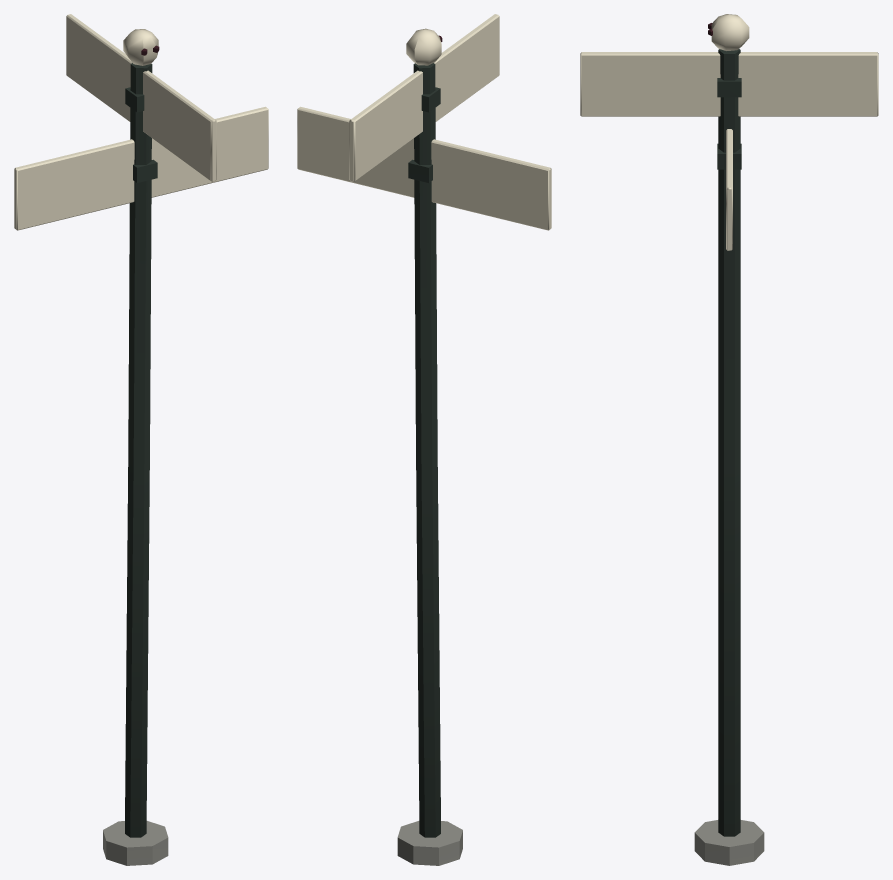
The model's file is sign_street.glb.
The picture shows the model from 3 angles, left to right: view 1: azimuth 30°, elevation 25°; view 2: azimuth 150°, elevation 25°; view 3: azimuth 270°, elevation 25°; orthographic projection. The views are drawn at different scales.
Visible parts, largest first — view 1: sign_street, plate, plate_cross; view 2: sign_street, plate, plate_cross; view 3: sign_street, plate_cross, plate.
Part boxes in pixels (x1,y1,x2,y2): sign_street: [103, 29, 168, 865]; plate: [14, 106, 268, 230]; plate_cross: [66, 14, 216, 181]; sign_street: [397, 28, 462, 865]; plate: [297, 106, 551, 230]; plate_cross: [349, 14, 499, 181]; sign_street: [694, 14, 764, 865]; plate_cross: [580, 52, 878, 116]; plate: [726, 129, 732, 250].
Bounding box in the file's own units: 0.86 × 2.67 × 0.86.
